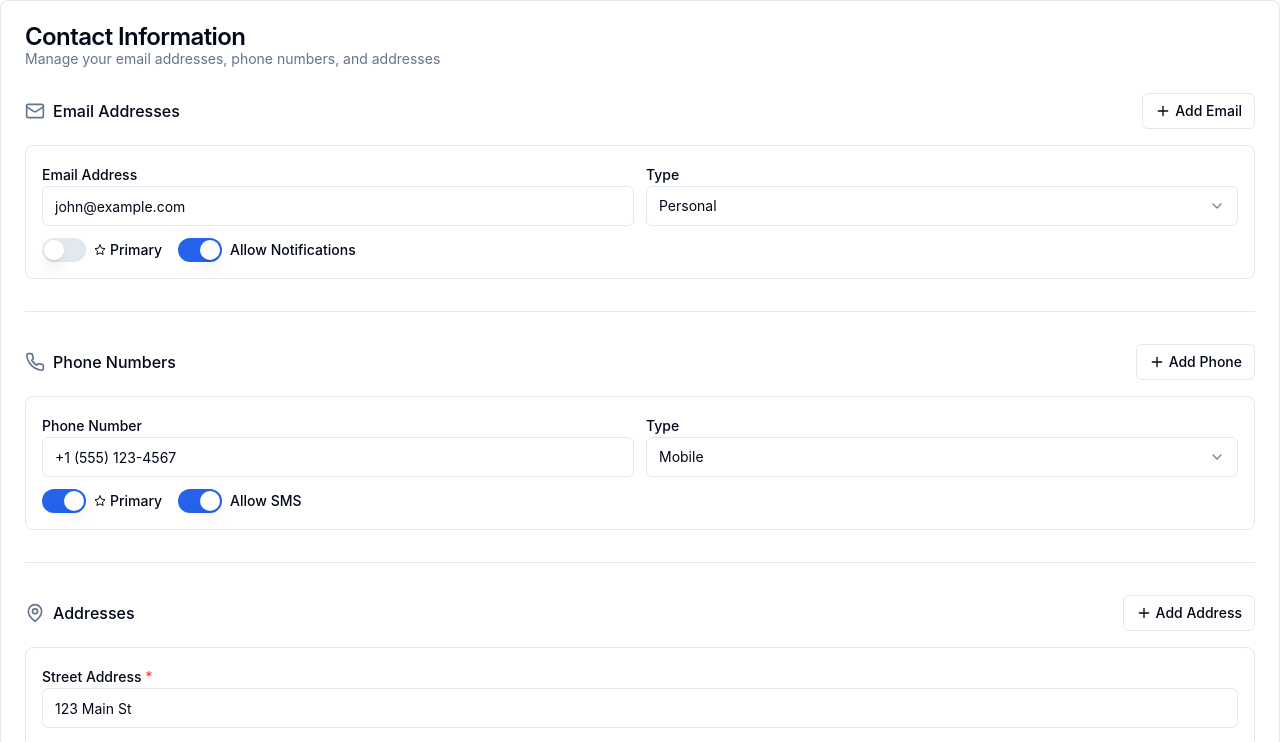
it: ContactInfoForm › Phone Management › should add new phone
Click the button "Add Phone" at (1195, 362), box [1136,344,1255,380]
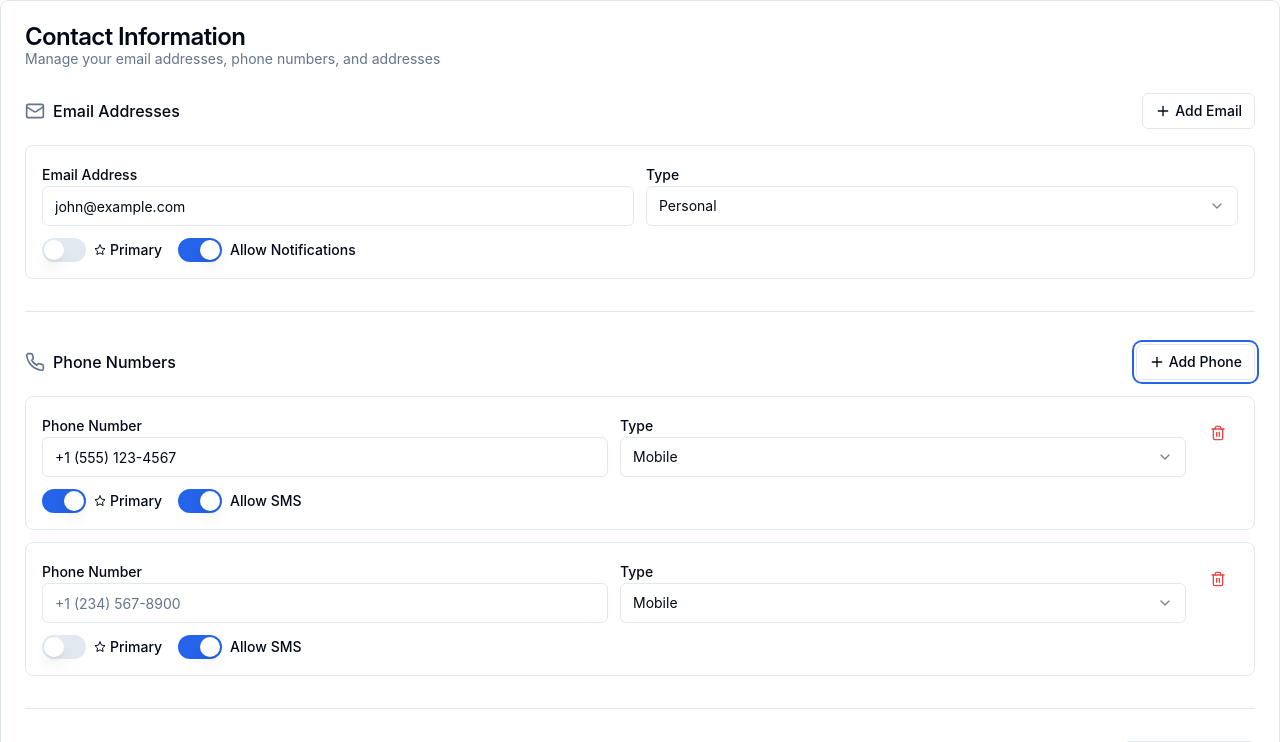
Expected: the number of fields labelled "Phone Number" is 2, [42,437,608,477]; [42,583,608,623]
